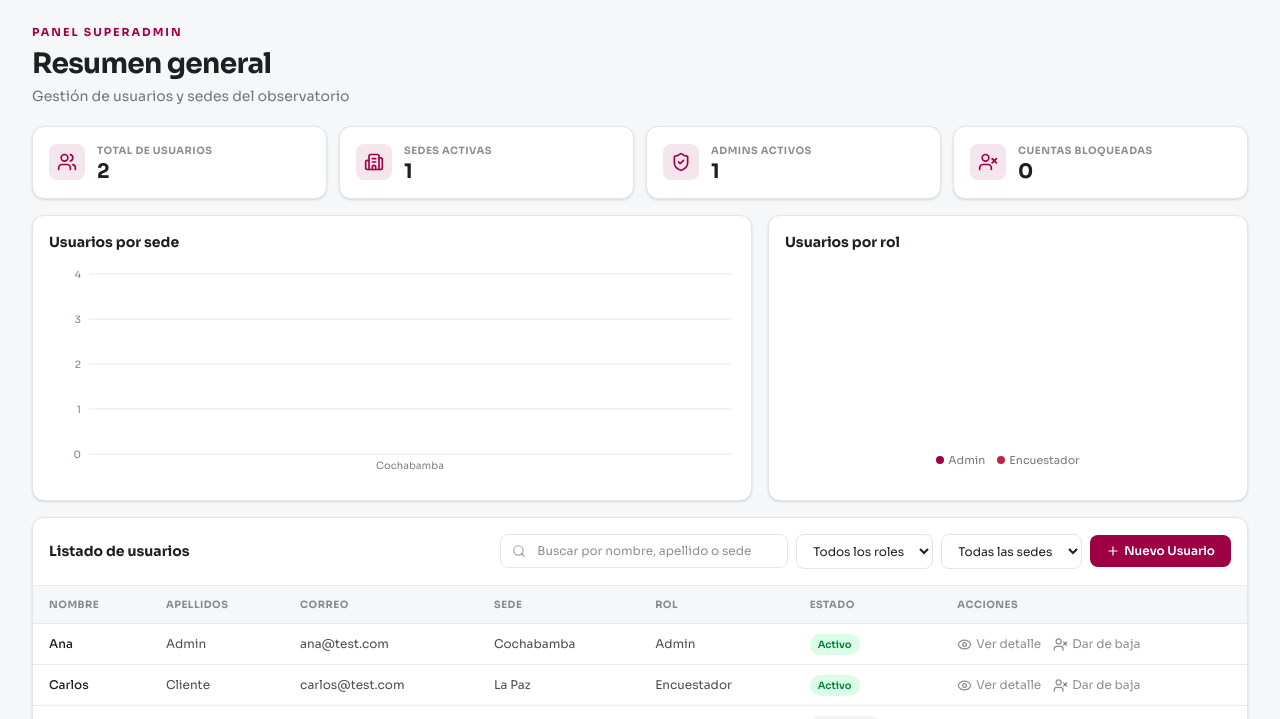
Test: UsuariosPage › el select de sede filtra pidiendo al servidor con el campusId elegido
This screenshot has width=1280, height=719.
Expected: the text "Ana" is shown, [33,624,150,665]
Select "La Paz" in the dropdown named "Filtrar por sede" at (1012, 551), box [941,534,1082,569]
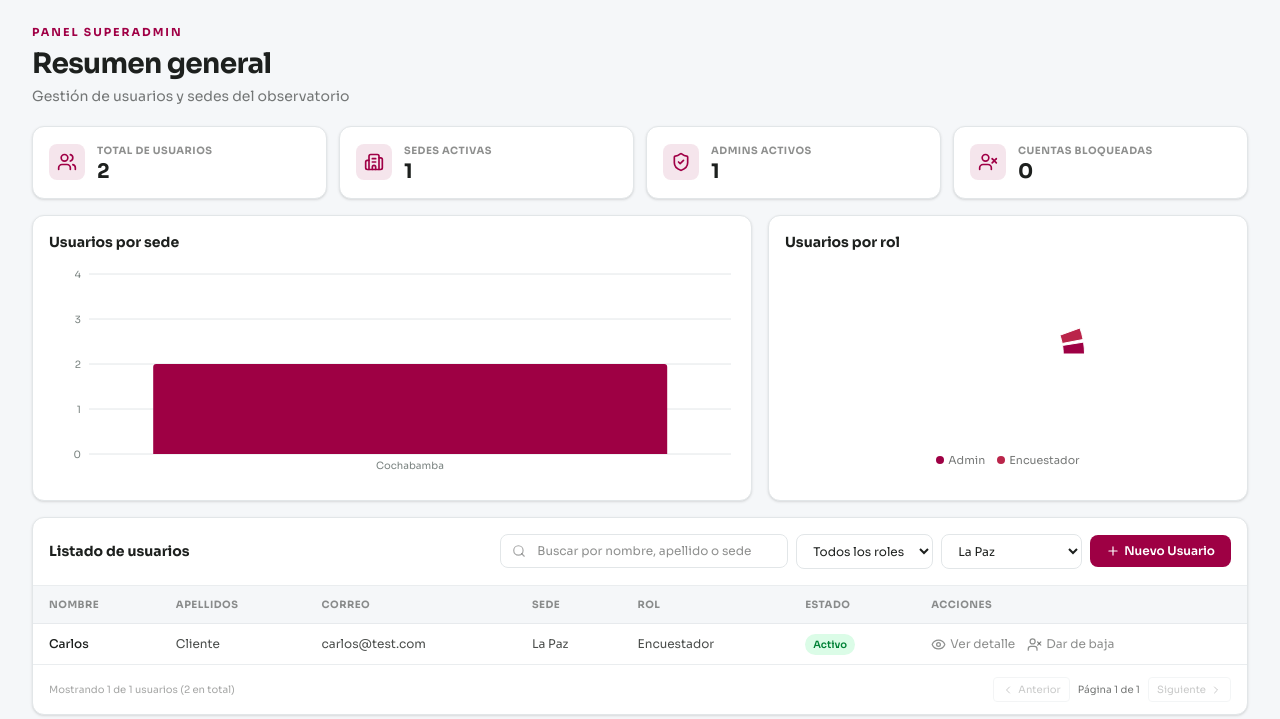
Expected: the text "Carlos" is shown, [33,624,160,664]
Expected: the text "Ana" is gone
